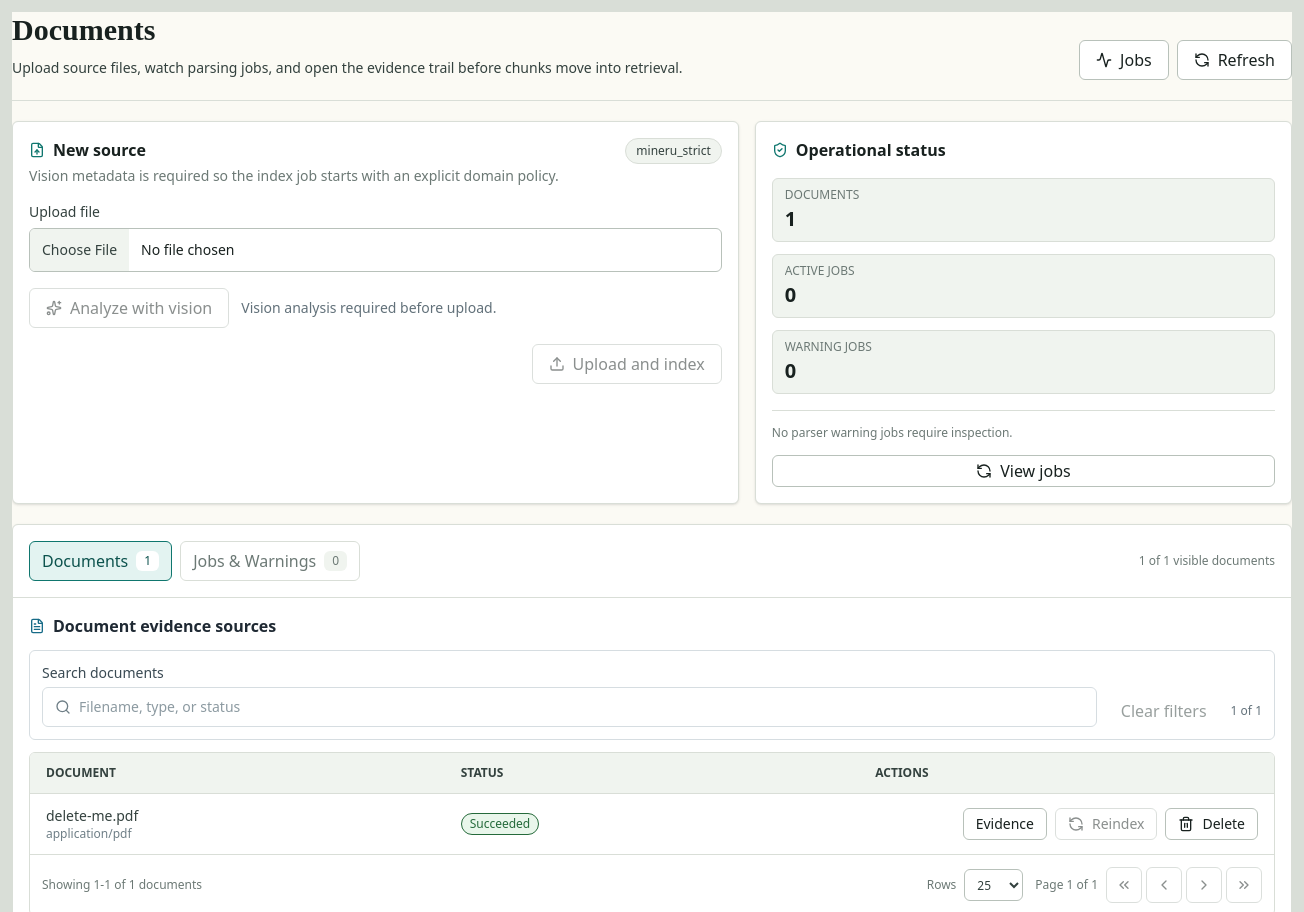
Test: DocumentsPage › confirms and deletes an uploaded document
The image size is (1304, 912).
Click the button with aria-label "delete delete-me.pdf" at (1212,824), box [1165, 808, 1258, 840]
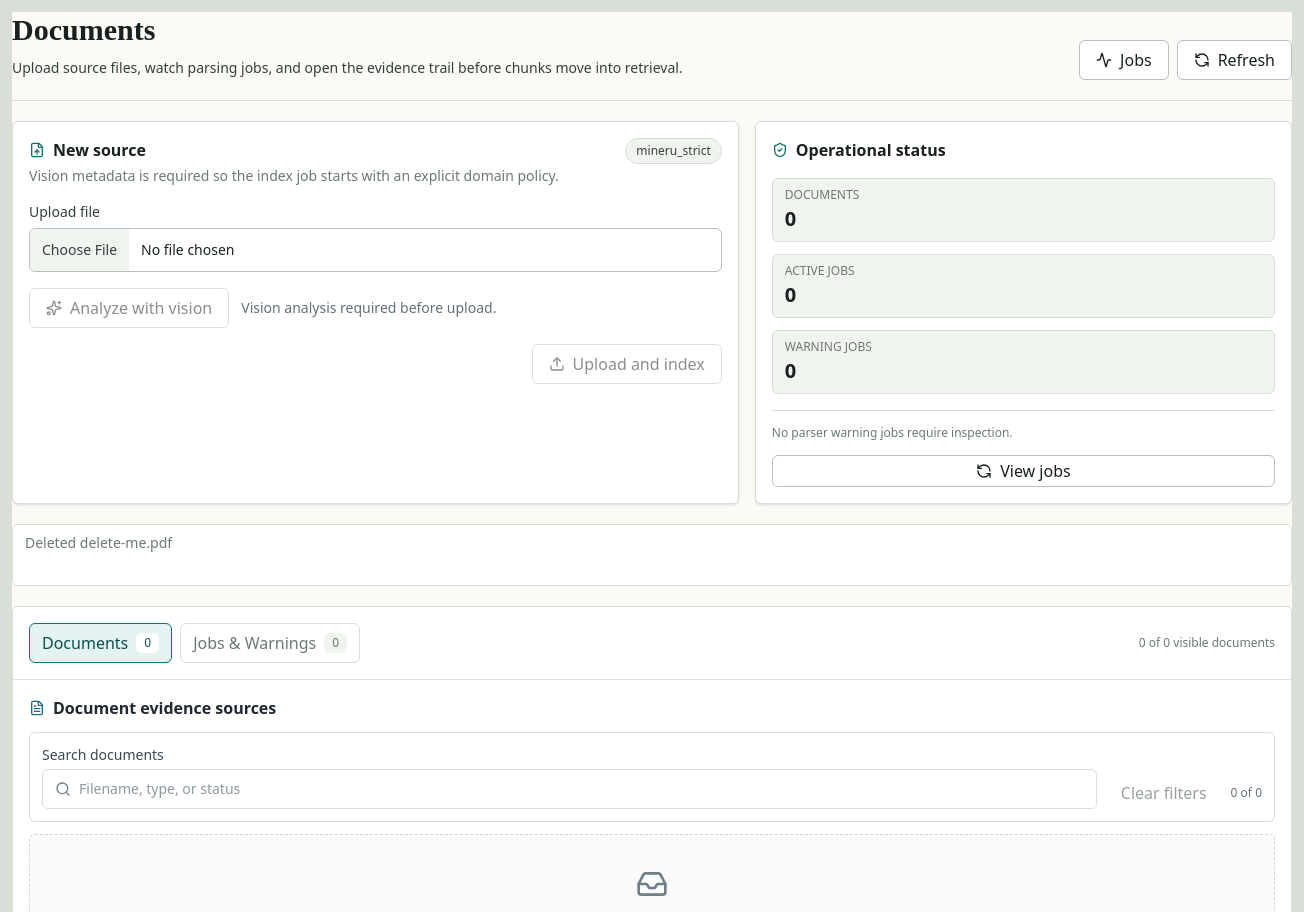
Expected: the text "Deleted delete-me.pdf" is shown, [25, 533, 172, 552]
